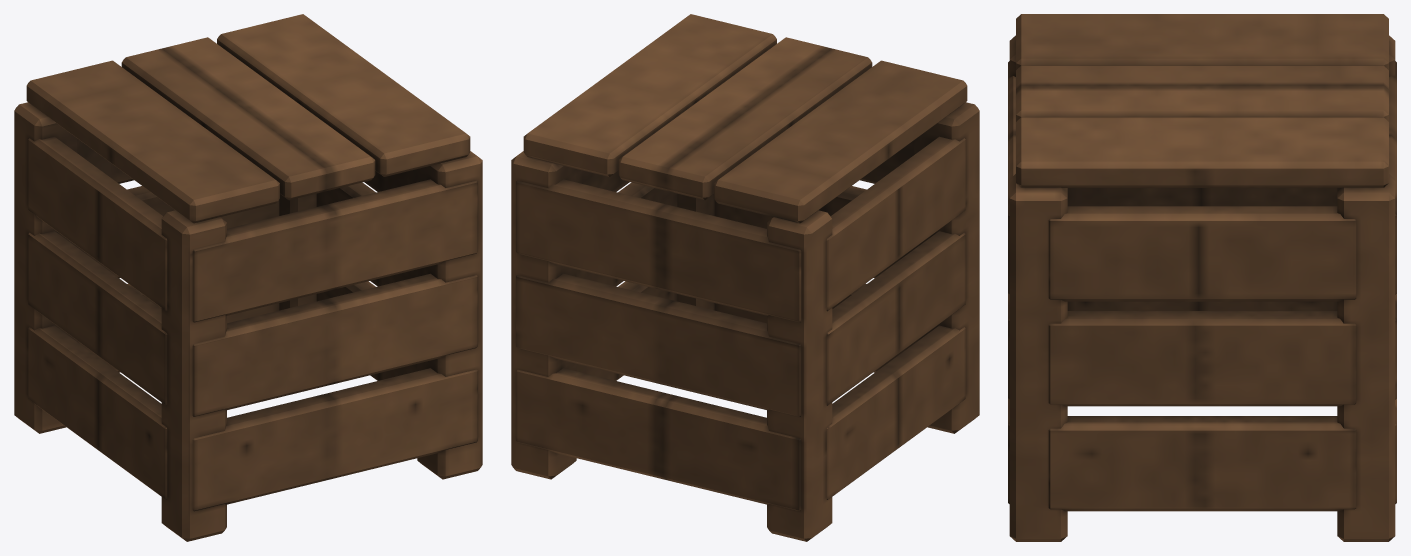
The model's file is Prop_Crate.fbx.
3 renders of one model, left to right at view 1: azimuth 30°, elevation 25°; view 2: azimuth 150°, elevation 25°; view 3: azimuth 270°, elevation 25°, orthographic. The views are drawn at different scales.
Parts seen in each view (by area): view 1: Prop_Crate; view 2: Prop_Crate; view 3: Prop_Crate.
Boxes of the visible parts, x1,y1,x2,y2 form: Prop_Crate: (14,14,482,541); Prop_Crate: (511,14,979,541); Prop_Crate: (1008,14,1396,541).
Size of the model in its own units: 0.605 by 0.6445 by 0.605.
